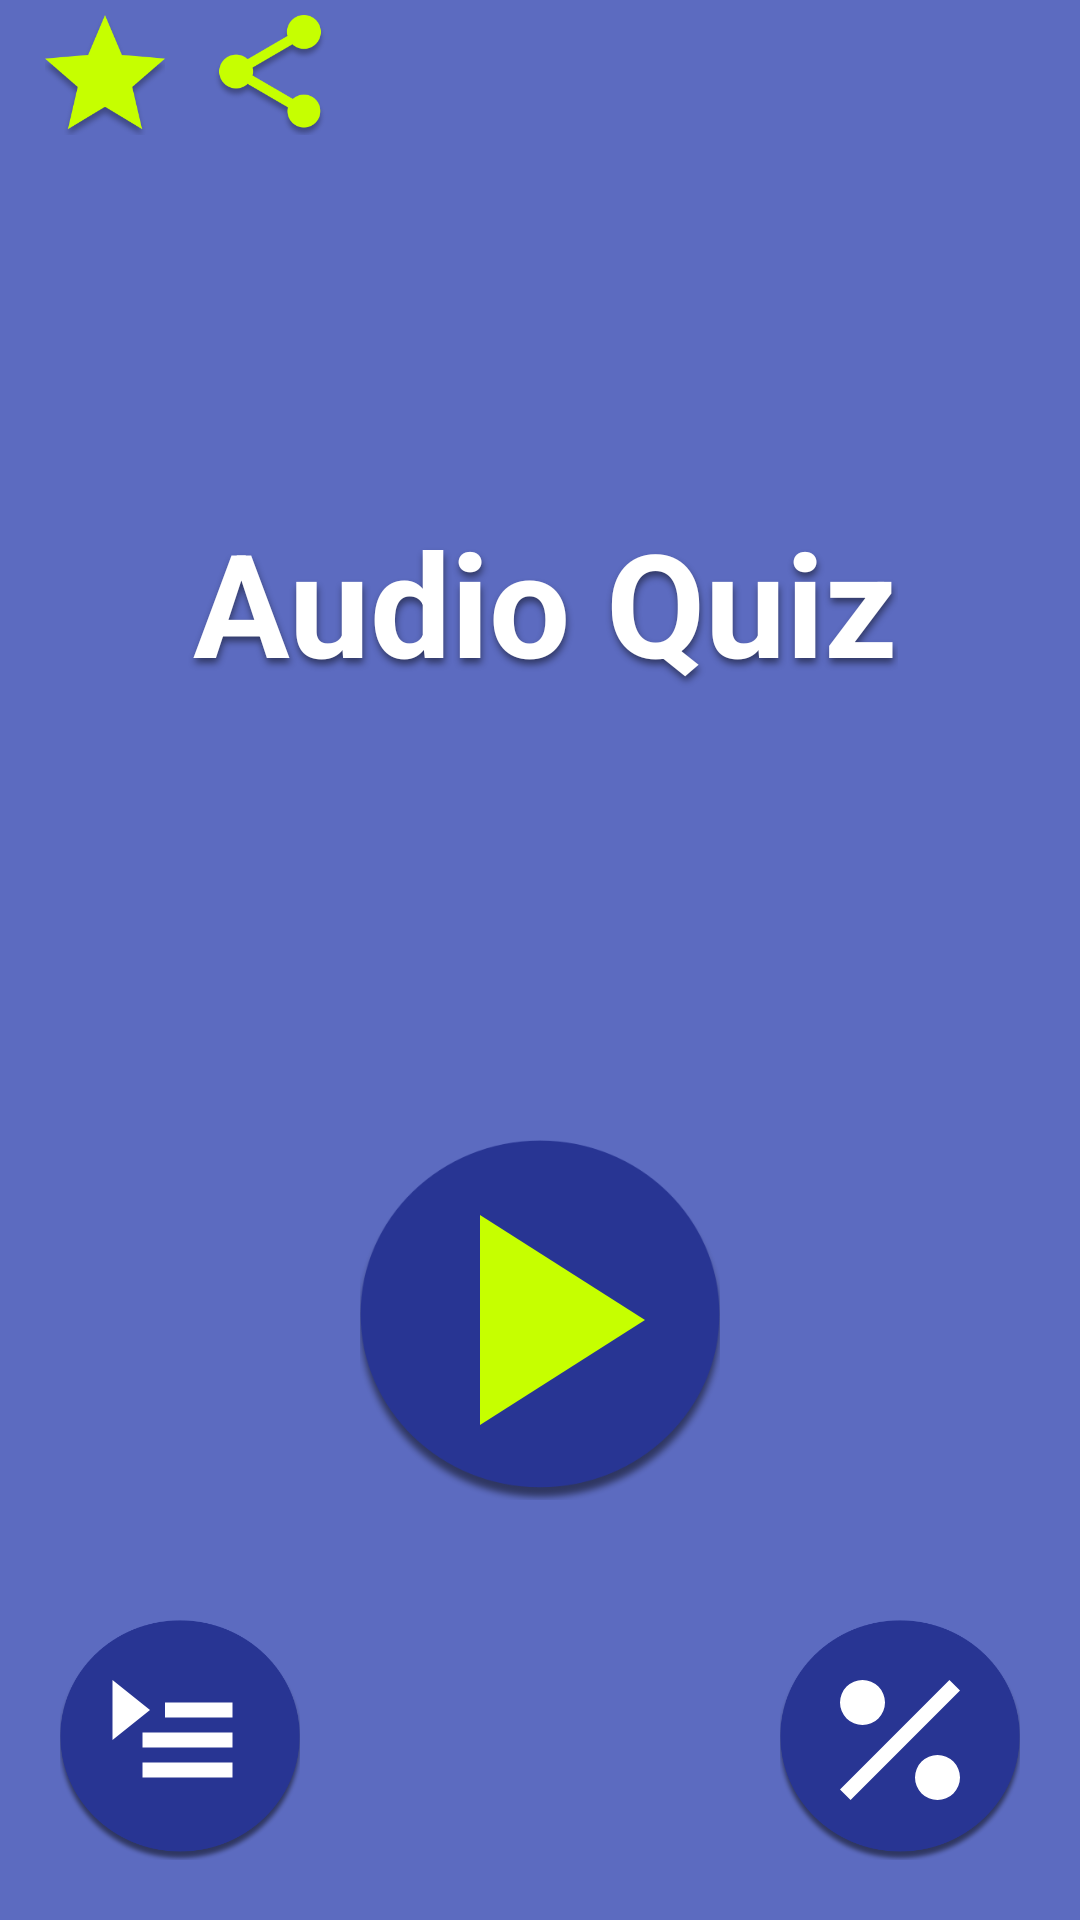

Icon click points for this 1080px x 1920px phone screenshot, format (x,y):
percent: (900,1739)
play arrow: (540,1320)
playlist play: (180,1739)
share: (270,74)
star: (105,73)
